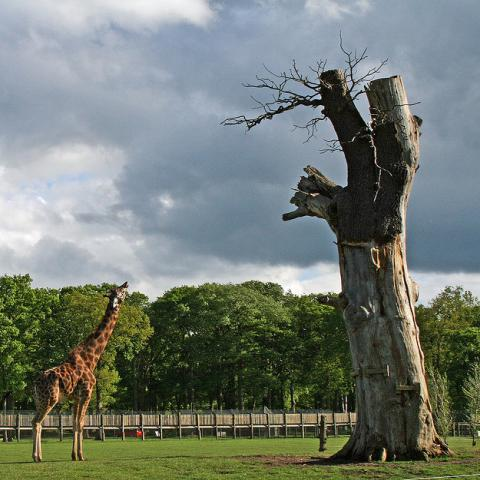car: (116, 429, 143, 437)
